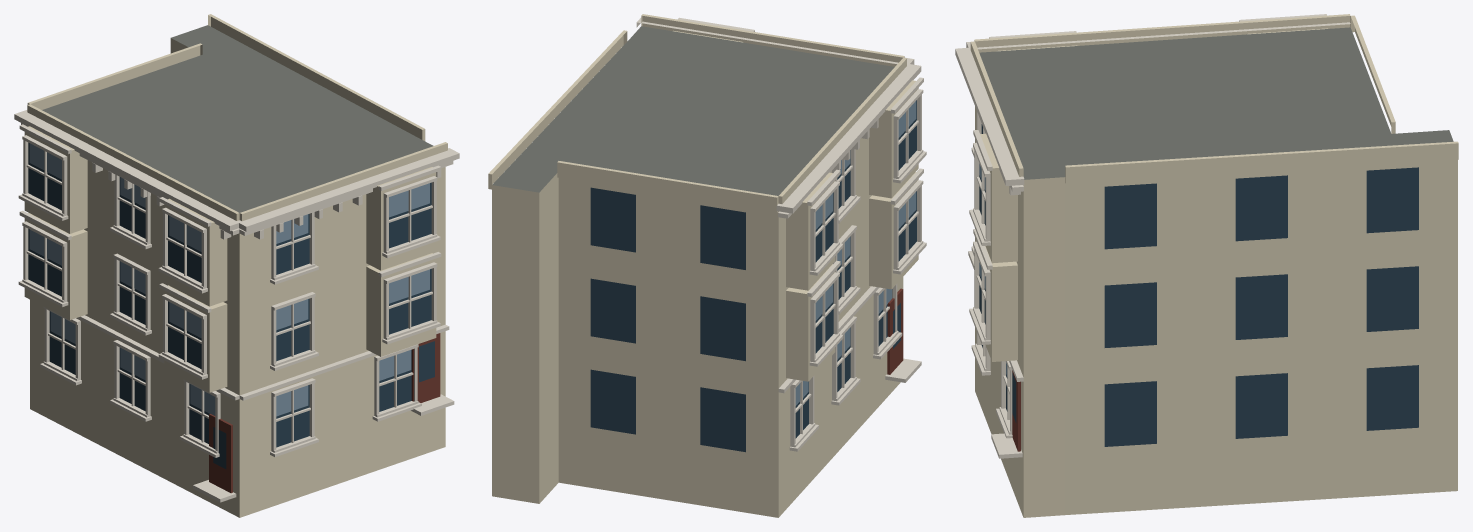
3 renders of one model, left to right at view 1: azimuth 30°, elevation 25°; view 2: azimuth 150°, elevation 25°; view 3: azimuth 270°, elevation 25°, orthographic. The views are drawn at different scales.
Visible parts, largest first — view 1: Footprint 0 / surface 2, Cornices and window frames, Footprint 0 / surface 1, Facade bay volumes, Inset glazing, Sky reflection panels, Storefronts and doors; view 2: Footprint 0 / surface 2, Footprint 0 / surface 1, Facade bay volumes, Inset glazing, Cornices and window frames, Sky reflection panels, Storefronts and doors; view 3: Footprint 0 / surface 2, Footprint 0 / surface 1, Inset glazing, Facade bay volumes, Cornices and window frames.
Boxes of the visible parts, left/top/right/bottom form: Footprint 0 / surface 2: left=30, top=38, right=445, bottom=517; Cornices and window frames: left=14, top=110, right=459, bottom=502; Footprint 0 / surface 1: left=42, top=25, right=433, bottom=212; Facade bay volumes: left=24, top=14, right=447, bottom=392; Inset glazing: left=28, top=142, right=434, bottom=468; Sky reflection panels: left=29, top=143, right=429, bottom=416; Storefronts and doors: left=209, top=333, right=440, bottom=493; Footprint 0 / surface 2: left=492, top=138, right=903, bottom=517; Footprint 0 / surface 1: left=492, top=26, right=894, bottom=195; Facade bay volumes: left=488, top=14, right=918, bottom=381; Inset glazing: left=590, top=100, right=916, bottom=452; Cornices and window frames: left=636, top=17, right=926, bottom=451; Sky reflection panels: left=795, top=101, right=916, bottom=405; Storefronts and doors: left=887, top=288, right=903, bottom=374; Footprint 0 / surface 2: left=975, top=106, right=1457, bottom=517; Footprint 0 / surface 1: left=979, top=27, right=1453, bottom=179; Inset glazing: left=979, top=124, right=1418, bottom=446; Facade bay volumes: left=970, top=14, right=1458, bottom=361; Cornices and window frames: left=955, top=14, right=1350, bottom=458.
Size of the model in its own units: 11.03 by 10.6 by 13.83.
